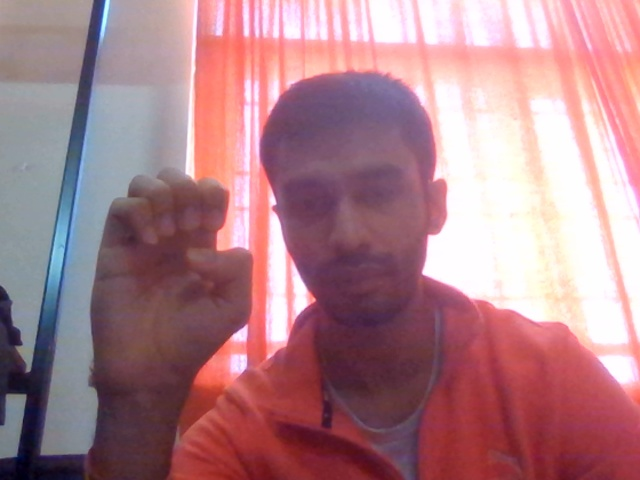E: (63, 157, 269, 455)
